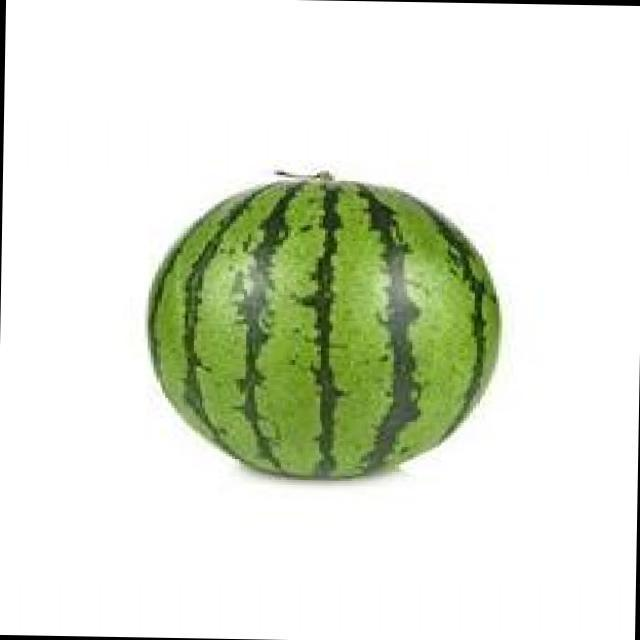watermelon: (140, 174, 507, 487)
